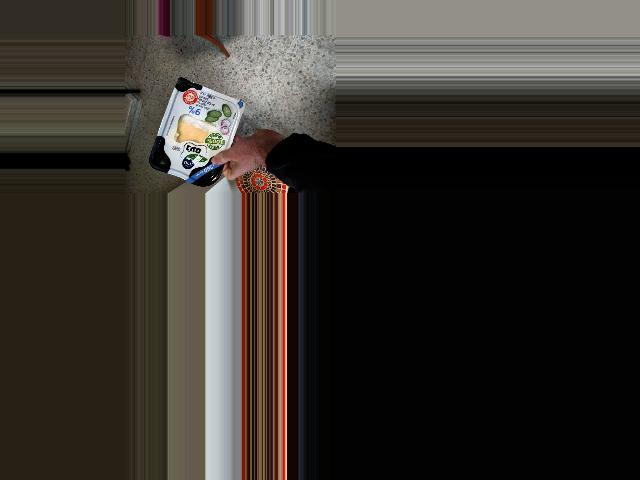cheese: (161, 88, 233, 175)
